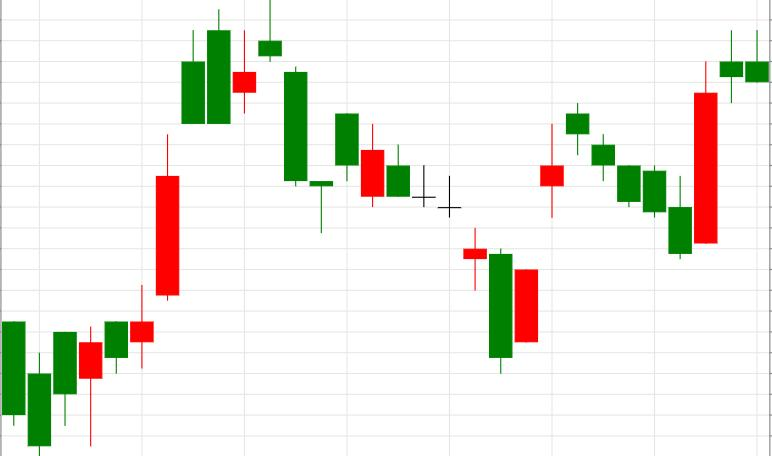evening_star_fall: (80, 0, 307, 447)
